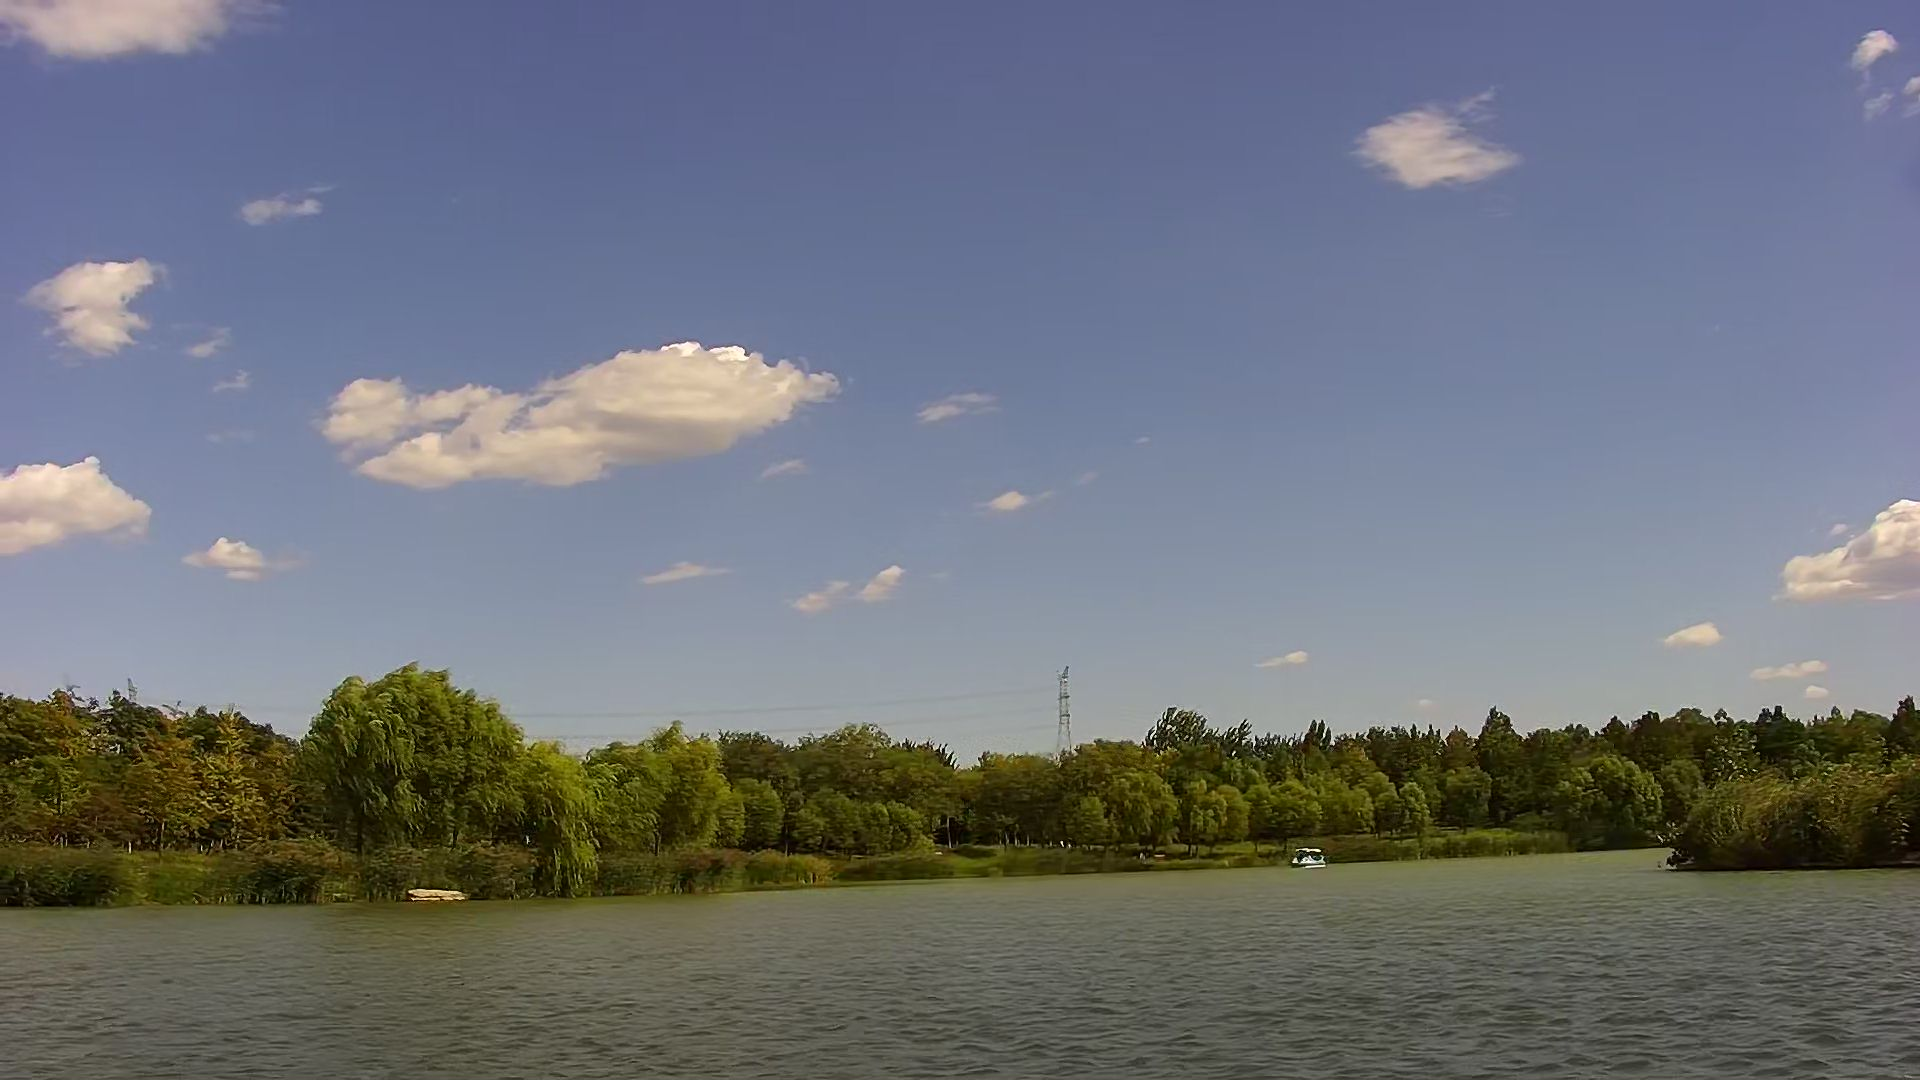boat: (1284, 845, 1328, 873)
